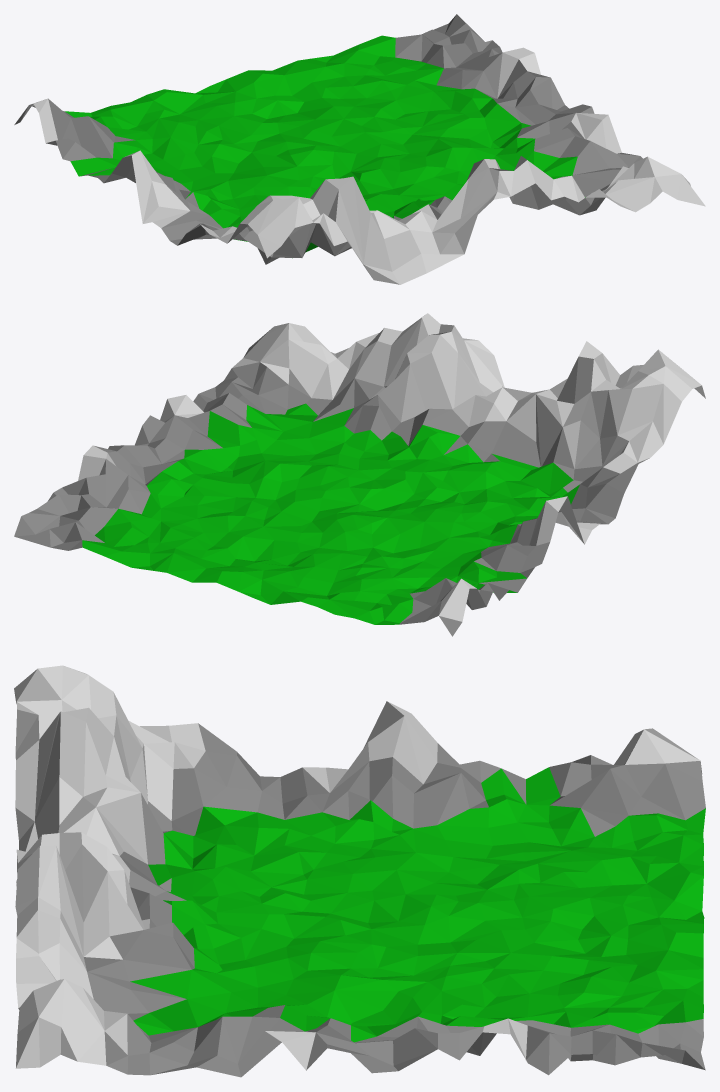
Rendered from Landscape5.fbx.
3 views of the same model, one above another, from view 1: azimuth 30°, elevation 25°; view 2: azimuth 150°, elevation 25°; view 3: azimuth 270°, elevation 25° (orthographic). The views are drawn at different scales.
Visible parts, largest first — view 1: Plane; view 2: Plane; view 3: Plane.
Boxes of the visible parts, left/top/right/bottom form: Plane: left=14, top=14, right=705, bottom=284; Plane: left=14, top=313, right=705, bottom=636; Plane: left=14, top=665, right=705, bottom=1077.
Bounding box in the file's own units: 1884 × 470 × 1880.
